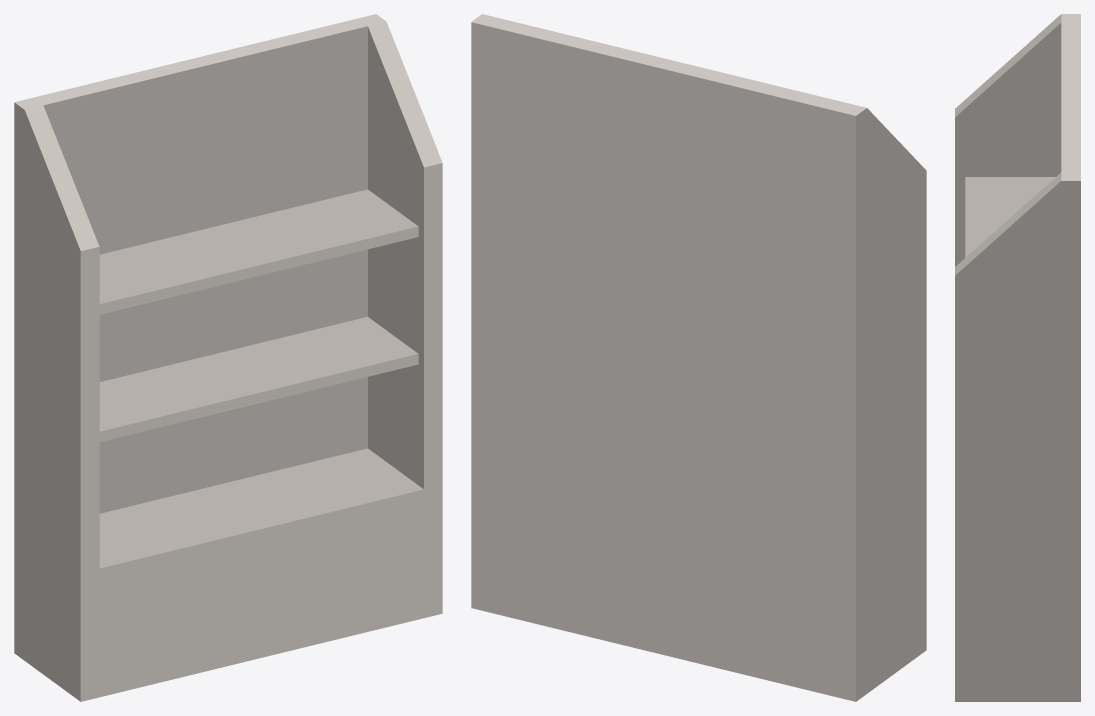
Rendered from Shelf.glb.
The picture shows the model from 3 angles, left to right: view 1: azimuth 30°, elevation 25°; view 2: azimuth 150°, elevation 25°; view 3: azimuth 270°, elevation 25°; orthographic projection. The views are drawn at different scales.
Visible parts, largest first — view 1: SI_Prop_Shelf_01; view 2: SI_Prop_Shelf_01; view 3: SI_Prop_Shelf_01.
Part boxes in pixels (x1=…): SI_Prop_Shelf_01: x1=14, y1=14, x2=442, y2=701; SI_Prop_Shelf_01: x1=471, y1=14, x2=926, y2=701; SI_Prop_Shelf_01: x1=955, y1=14, x2=1080, y2=701.
Bounding box in the file's own units: 0.0226 × 0.0329 × 0.0072.
1 material, 1 textured.
